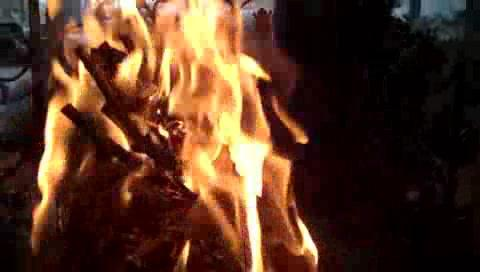fire: (46, 0, 300, 270)
